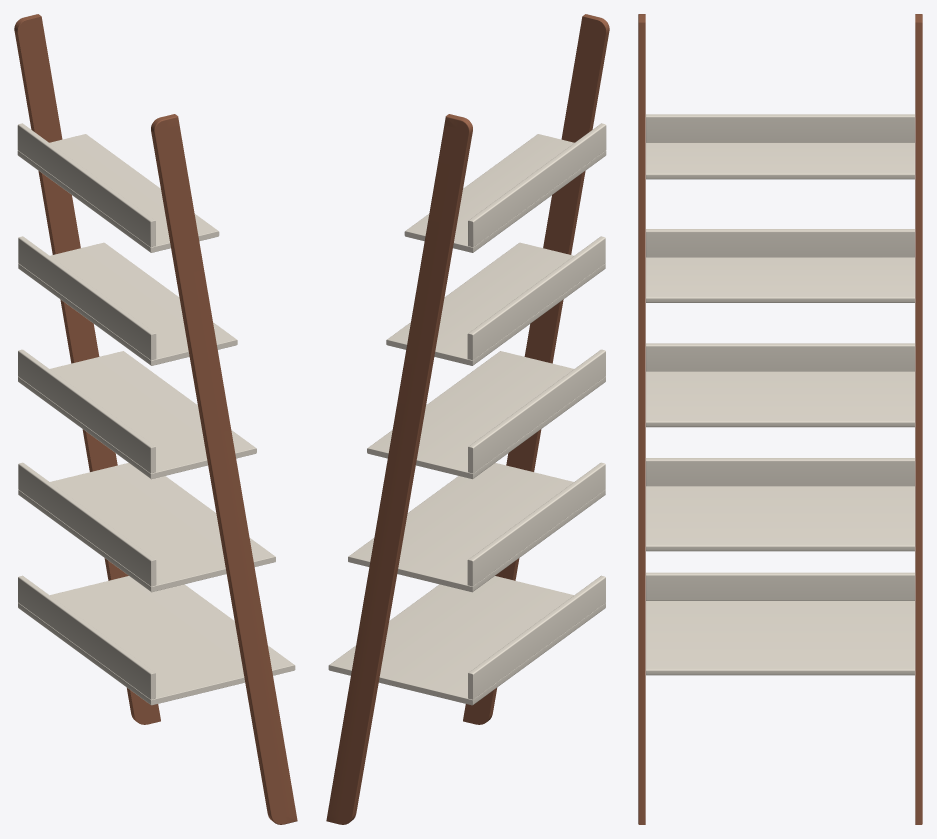
Rendered from Shelve.fbx.
3 views of the same model, side by side, from view 1: azimuth 30°, elevation 25°; view 2: azimuth 150°, elevation 25°; view 3: azimuth 270°, elevation 25° (orthographic).
Visible parts, largest first — view 1: Shelves .001; view 2: Shelves .001; view 3: Shelves .001.
Part boxes in pixels (box(x1,y1,x2,y2)): Shelves .001: box(14, 14, 297, 824); Shelves .001: box(326, 14, 609, 824); Shelves .001: box(638, 14, 922, 824).
Bounding box in the file's own units: 69.69 × 338 × 117.
